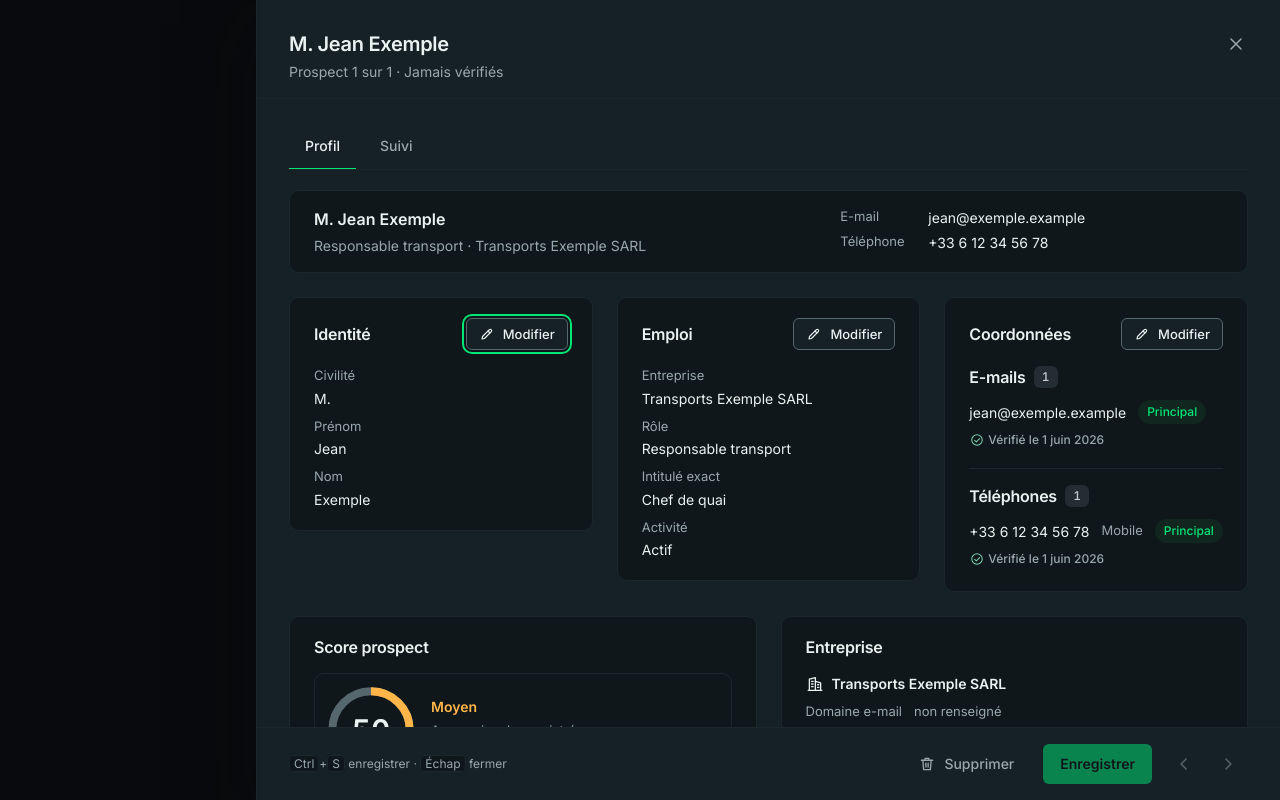
Test: Prospect editor — read, edit, save, read › « Terminer » goes back to the summary and keeps the change pending in the draft
Expected: the element "Identité" is shown, [289,297,593,530]
Click the button with aria-label "Modifier : Identité" at (517, 334), box [466,318,568,350]
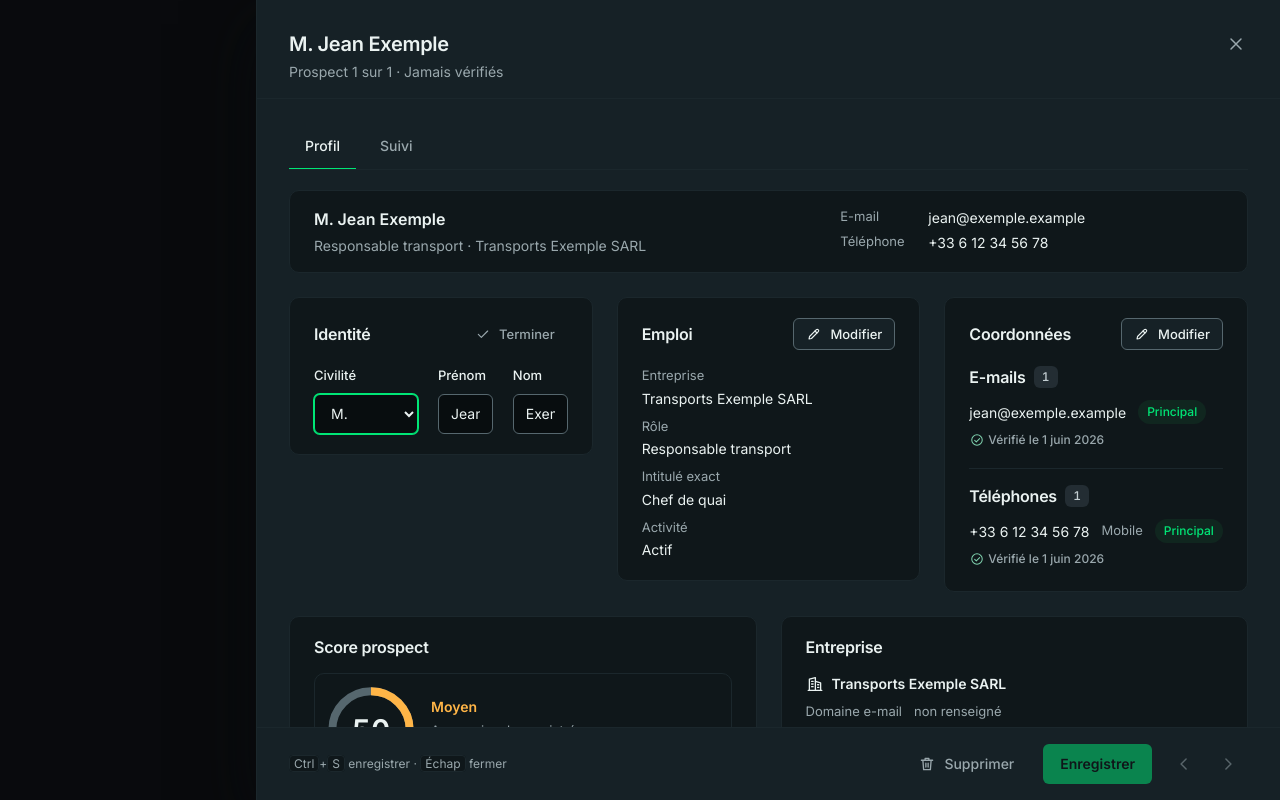
Type "-Test" into the field labelled "Nom" at (540, 414), box [513,394,568,434]
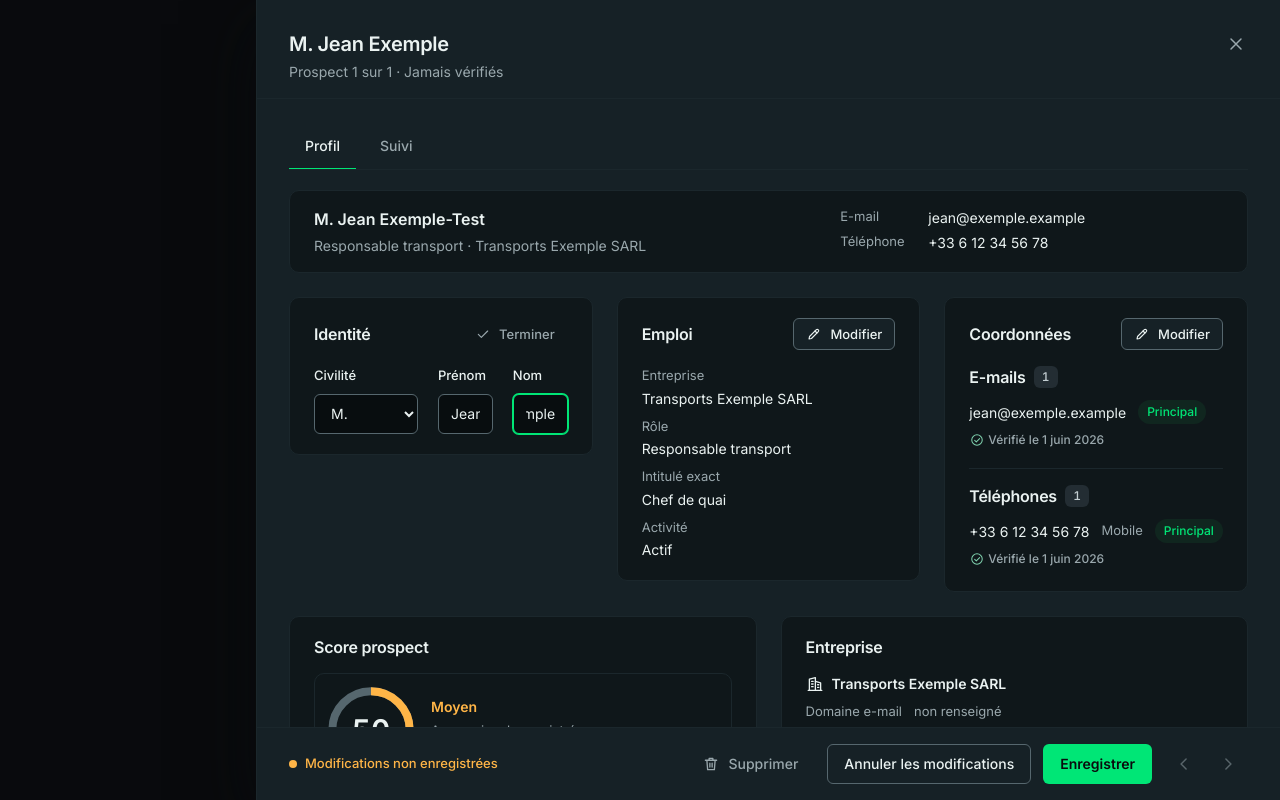
Click the button with aria-label "Terminer : Identité" at (515, 334), box [462,318,568,350]
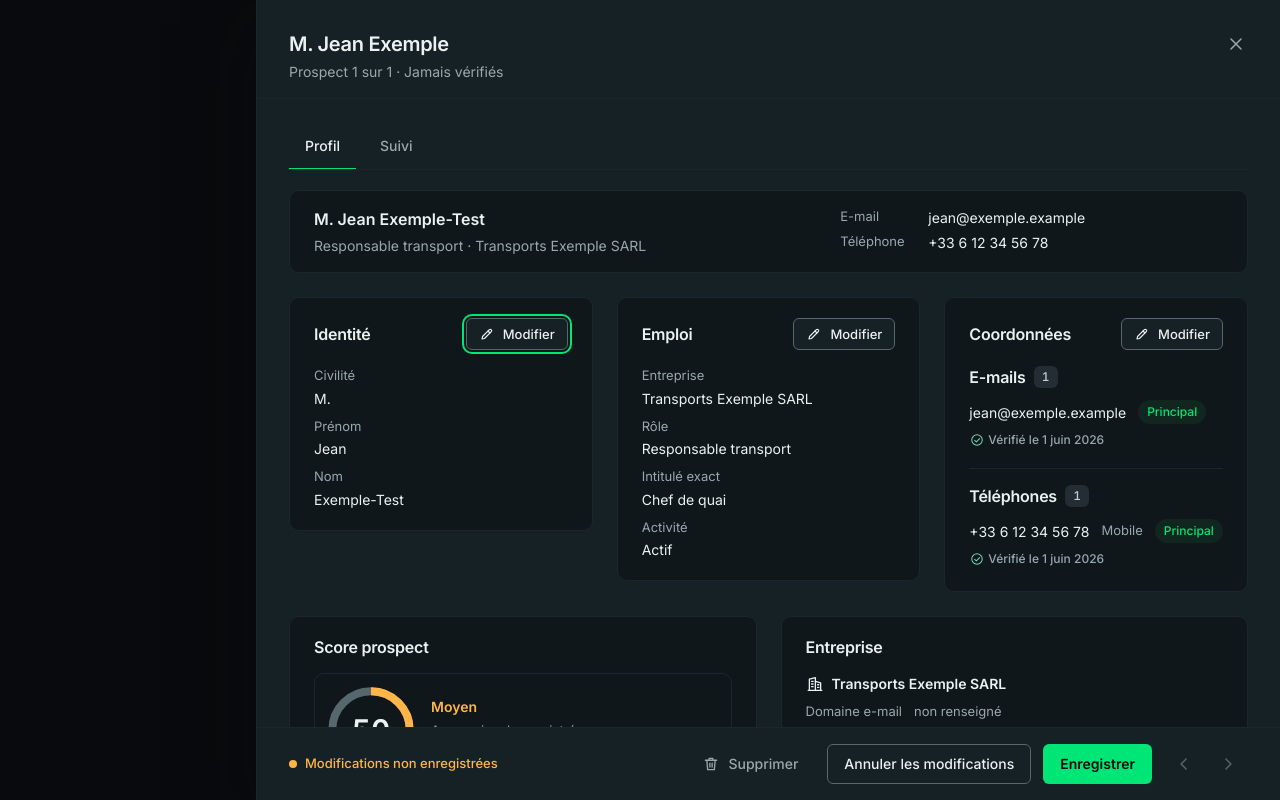
Expected: the message named "Enregistrement de la fiche" reads "Modifications non enregistrées", [305,755,498,771]
Expected: the element "Identité" shows "Exemple-Test", [314,490,404,508]
